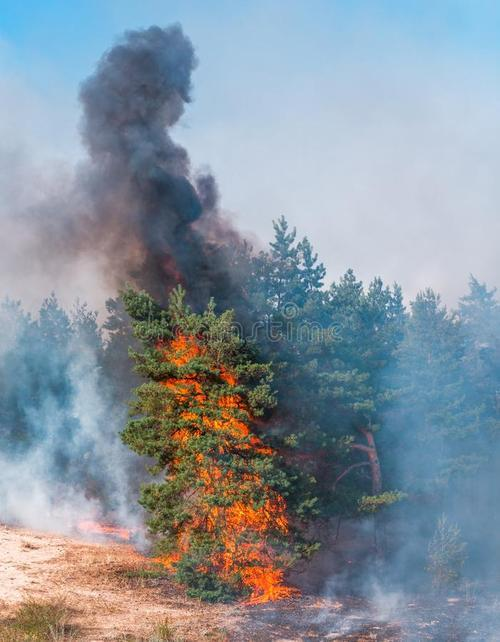fire: (164, 337, 289, 601)
smoke: (303, 314, 498, 636), (77, 32, 234, 283), (6, 274, 140, 538)
